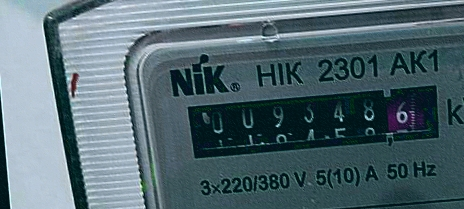0: (239, 105, 256, 129), (209, 107, 224, 134)
3: (299, 98, 316, 125)
4: (329, 96, 346, 124)
6: (392, 97, 411, 126)
8: (359, 94, 377, 123)
9: (269, 102, 286, 129)
screen: (177, 76, 451, 168)
